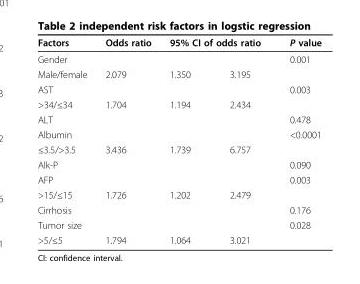table: (36, 36, 320, 245)
table column: (209, 36, 274, 245), (95, 36, 159, 245), (36, 36, 95, 245), (159, 36, 209, 245), (274, 36, 320, 245)
table column header: (36, 36, 320, 66)
table row: (36, 50, 320, 66), (36, 186, 320, 202), (36, 66, 320, 81), (36, 81, 320, 96), (36, 96, 320, 111), (36, 111, 320, 126), (36, 126, 320, 141), (36, 141, 320, 156), (36, 156, 320, 171), (36, 171, 320, 186), (36, 202, 320, 217), (36, 217, 320, 232), (36, 36, 320, 50), (36, 232, 320, 245)
table spanning cell: (95, 36, 159, 66), (36, 36, 95, 66), (159, 36, 274, 50), (274, 36, 320, 66)
